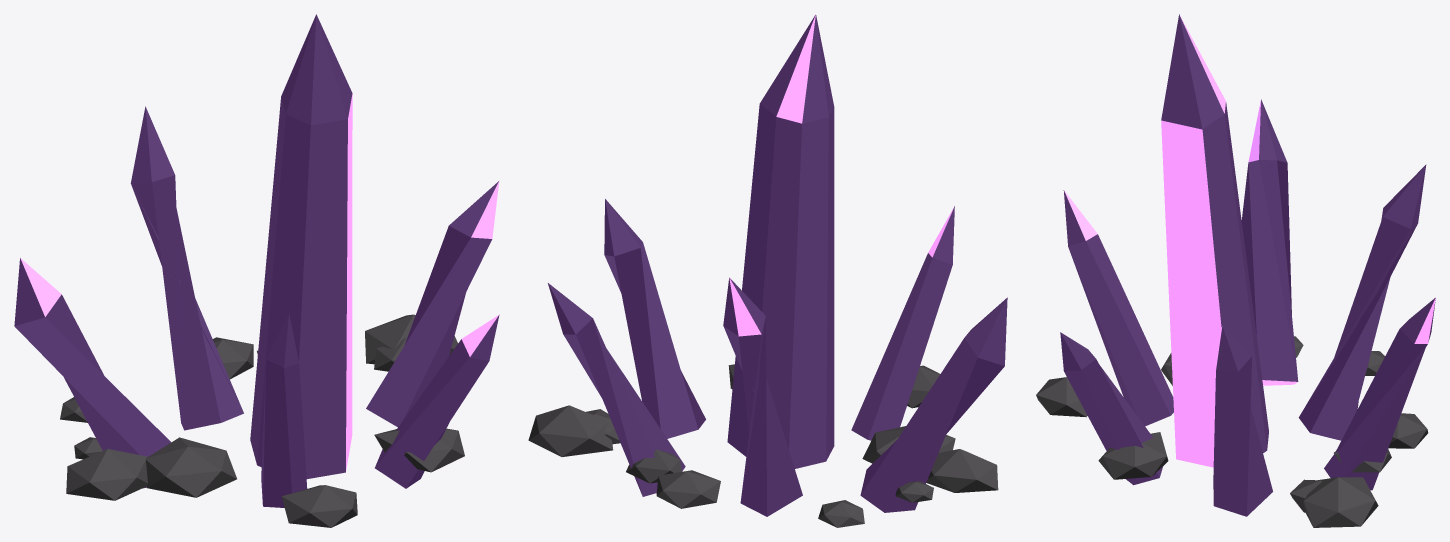
Rendered from vorthak_ash_glass_shards.glb.
3 renders of one model, left to right at view 1: azimuth 30°, elevation 25°; view 2: azimuth 150°, elevation 25°; view 3: azimuth 270°, elevation 25°, orthographic. The views are drawn at different scales.
Parts seen in each view (by area): view 1: AshGlassShards; view 2: AshGlassShards; view 3: AshGlassShards.
Part boxes in pixels (x1=…): AshGlassShards: x1=14, y1=14, x2=499, y2=527; AshGlassShards: x1=528, y1=14, x2=1007, y2=527; AshGlassShards: x1=1036, y1=14, x2=1435, y2=527.
Bounding box in the file's own units: 2.78 × 2.65 × 2.19.
